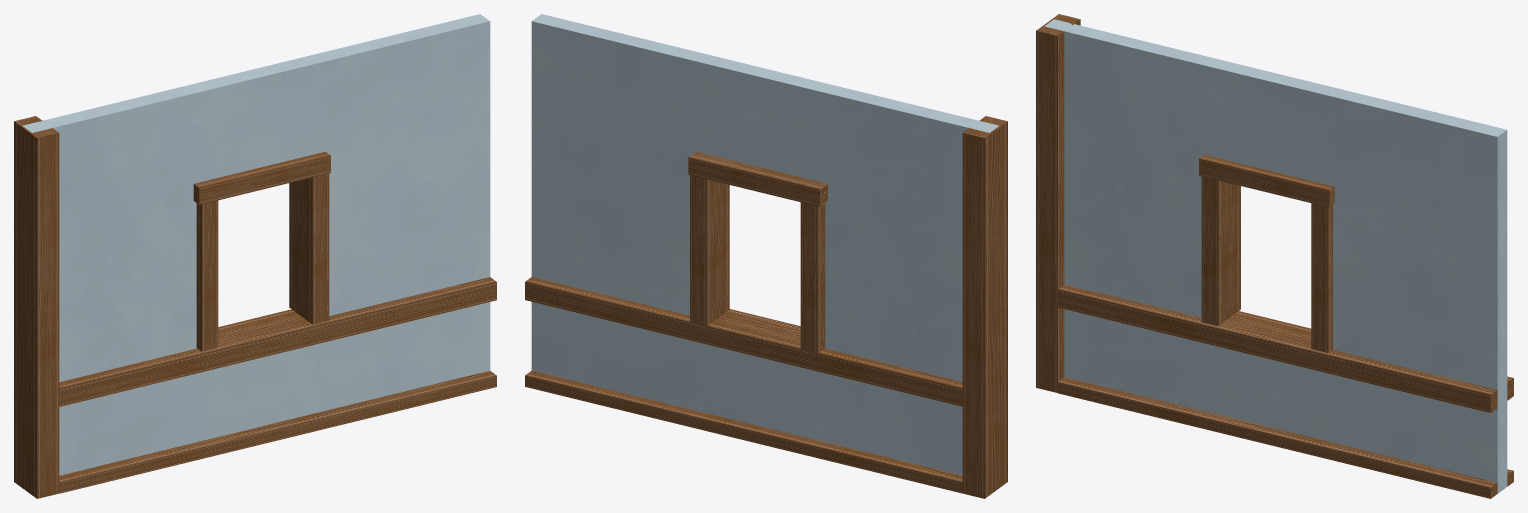
Rendered from SM_Window_Wall_01_wblue.glb.
3 renders of one model, left to right at view 1: azimuth 30°, elevation 25°; view 2: azimuth 150°, elevation 25°; view 3: azimuth 330°, elevation 25°, orthographic.
Parts seen in each view (by area): view 1: SM_Window_Wall_01; view 2: SM_Window_Wall_01; view 3: SM_Window_Wall_01.
Boxes of the visible parts, x1,y1,x2,y2 form: SM_Window_Wall_01: [14, 14, 496, 498]; SM_Window_Wall_01: [525, 14, 1007, 498]; SM_Window_Wall_01: [1036, 14, 1513, 498].
Bounding box in the file's own units: 4 × 3 × 0.3736.
Materials: 2 (2 with a texture image).
